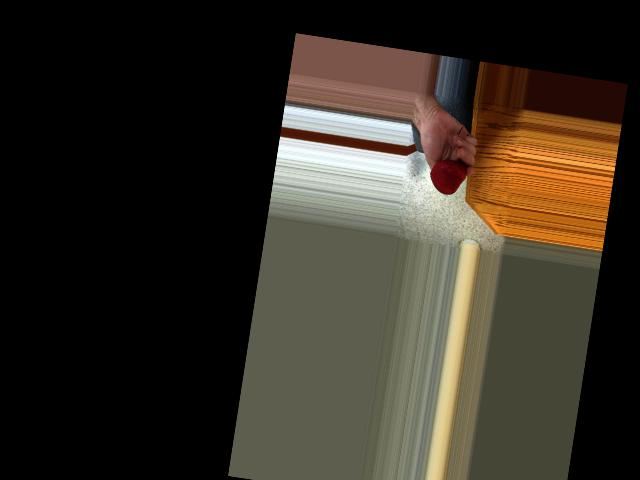apple: (426, 156, 468, 198)
